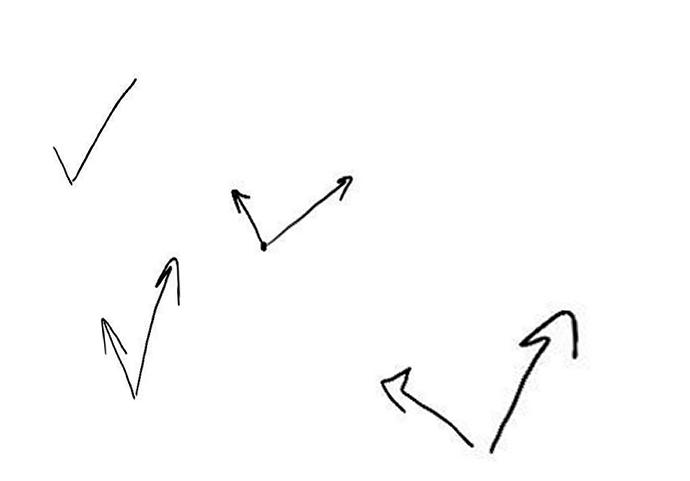arrow: (489, 307, 578, 447), (379, 366, 474, 446), (137, 257, 181, 392), (269, 173, 353, 243), (99, 320, 134, 396), (232, 186, 263, 245)
arrownohead: (73, 77, 135, 178), (55, 146, 72, 184)
